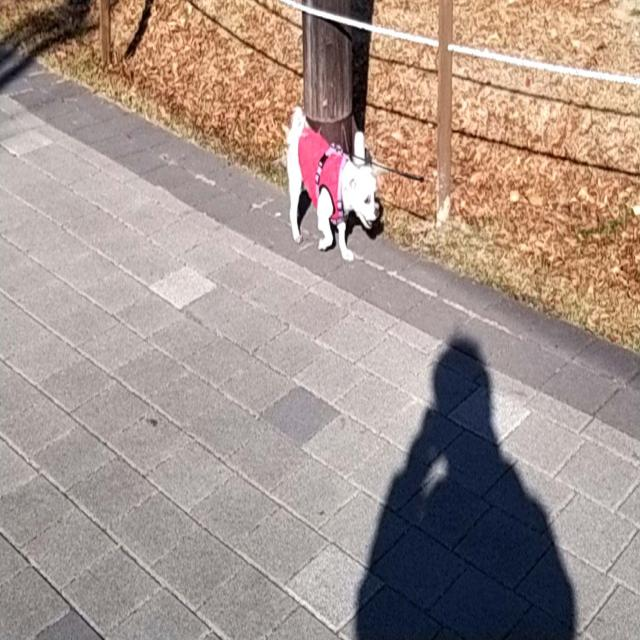Dog: (286, 106, 379, 263)
